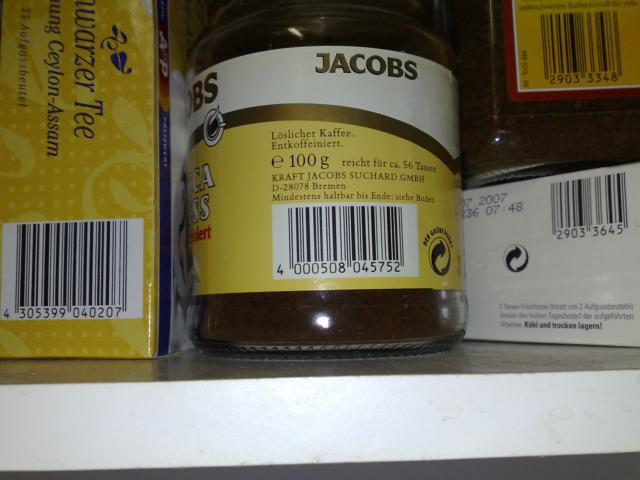Barkod: (14, 220, 128, 308), (286, 204, 404, 261), (538, 10, 622, 74), (549, 172, 629, 230)
